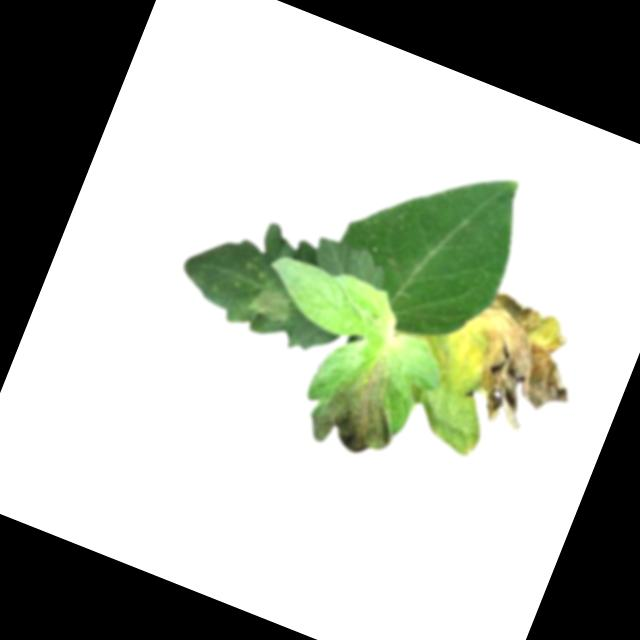Late_blight: (442, 285, 597, 446), (299, 337, 422, 470), (244, 281, 298, 325), (459, 431, 481, 459)
healthy: (317, 126, 540, 359)
